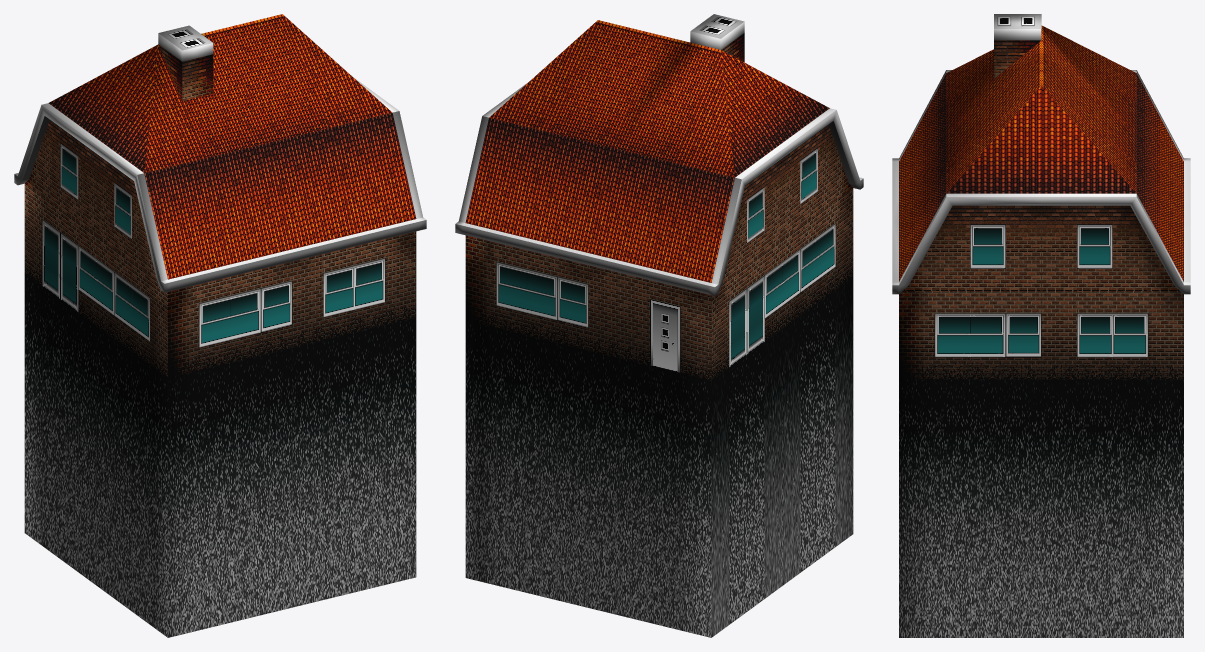
Rendered from zadeldak_mod2_1a.fbx.
3 renders of one model, left to right at view 1: azimuth 30°, elevation 25°; view 2: azimuth 150°, elevation 25°; view 3: azimuth 270°, elevation 25°, orthographic.
Visible parts, largest first — view 1: zadeldak_mod2_1a; view 2: zadeldak_mod2_1a; view 3: zadeldak_mod2_1a.
Boxes of the visible parts, bbox=[...] form: zadeldak_mod2_1a: bbox=[14, 14, 426, 637]; zadeldak_mod2_1a: bbox=[455, 14, 863, 637]; zadeldak_mod2_1a: bbox=[892, 14, 1190, 637].
Bounding box in the file's own units: 950 × 1861 × 943.
